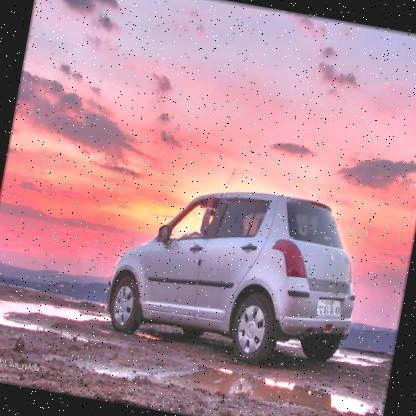car: (96, 158, 380, 380)
